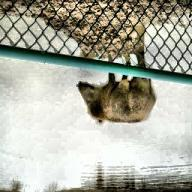boar: (75, 52, 155, 126)
